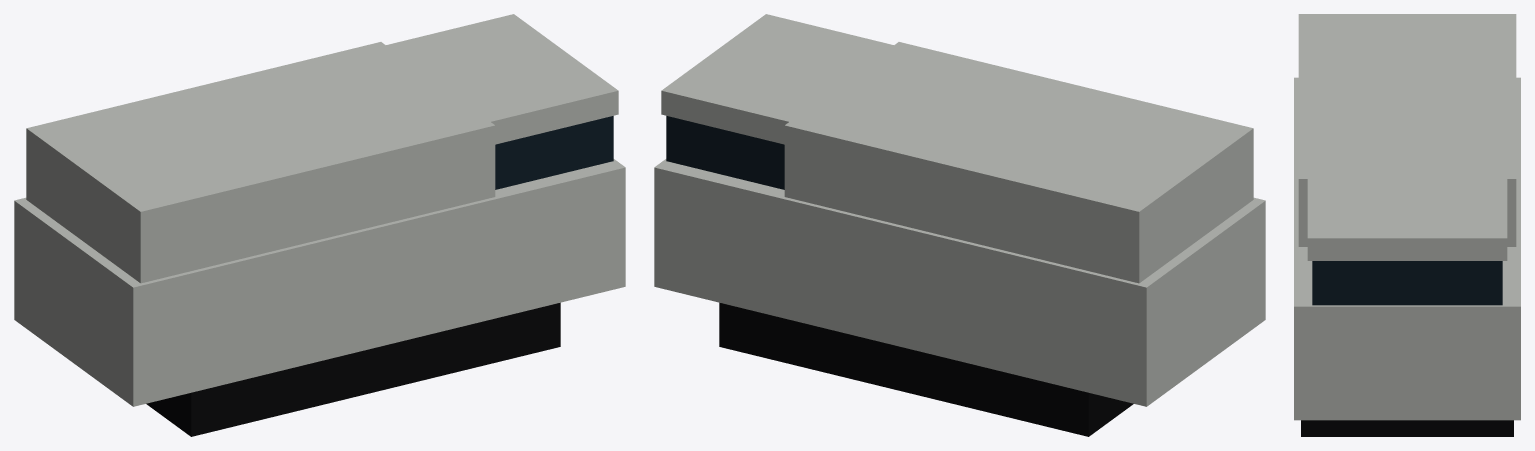
The model's file is delivery_truck.lod2.obj.
The picture shows the model from 3 angles, left to right: view 1: azimuth 30°, elevation 25°; view 2: azimuth 150°, elevation 25°; view 3: azimuth 270°, elevation 25°; orthographic projection. The views are drawn at different scales.
Parts seen in each view (by area): view 1: delivery_truck; view 2: delivery_truck; view 3: delivery_truck.
Part boxes in pixels (x1=…): delivery_truck: x1=14, y1=14, x2=625, y2=436; delivery_truck: x1=654, y1=14, x2=1265, y2=436; delivery_truck: x1=1294, y1=14, x2=1520, y2=436.
Size of the model in its own units: 6.2 by 2.87 by 2.6.
